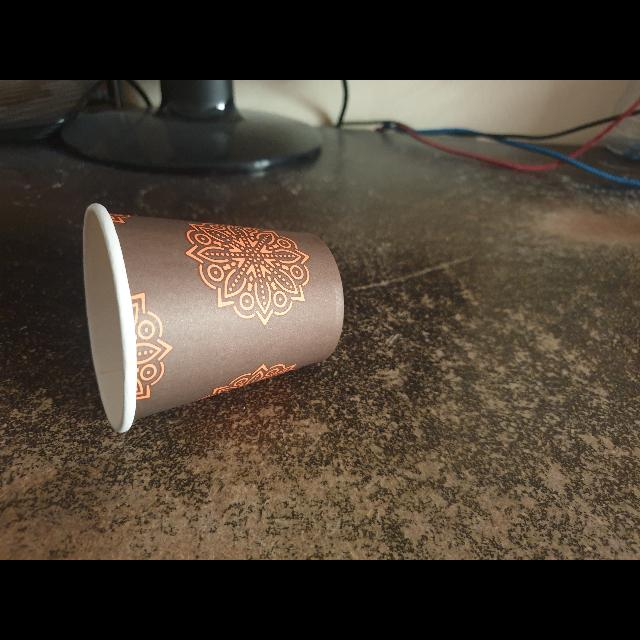trash: (70, 200, 348, 436)
